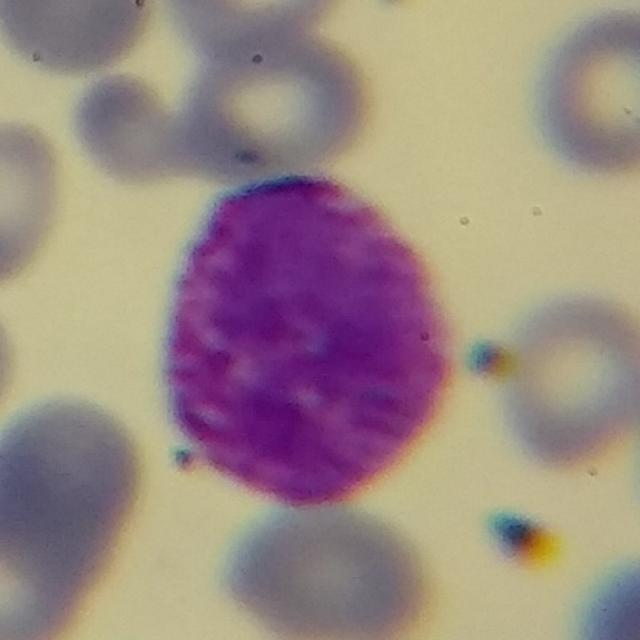baso: (163, 162, 459, 509)
